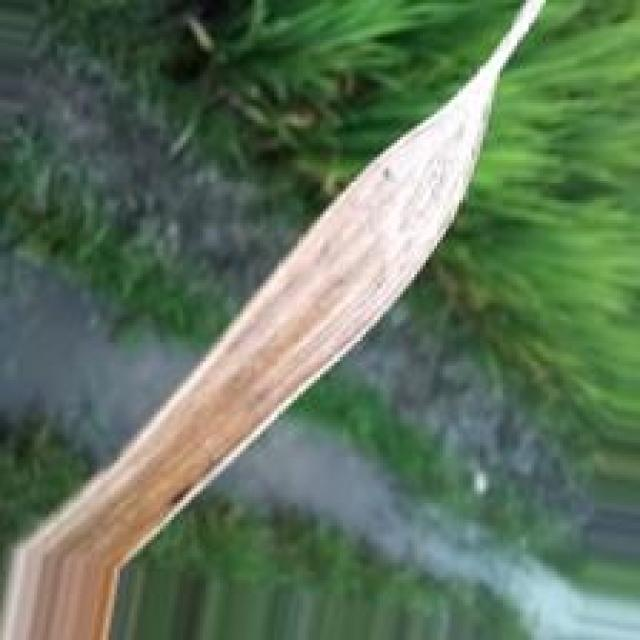Rice False Smut: (12, 52, 503, 567)
